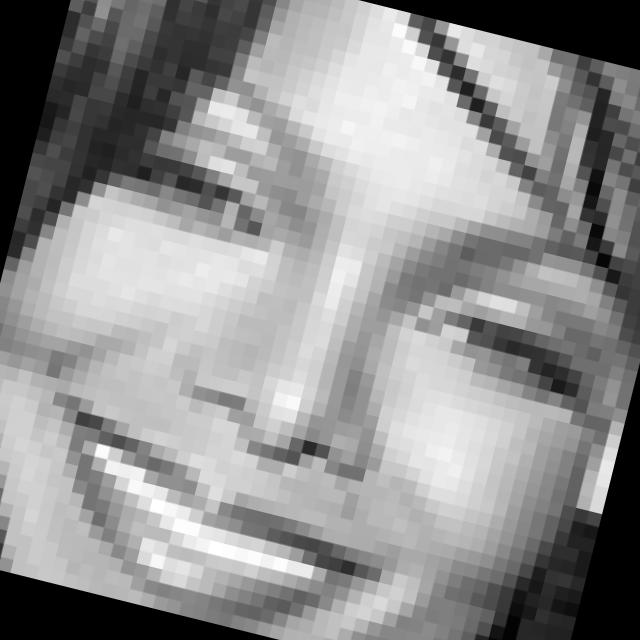happy: (13, 33, 640, 640)
